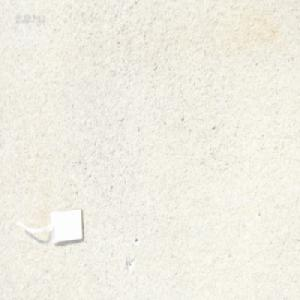LuggageTag: (16, 205, 85, 247)
